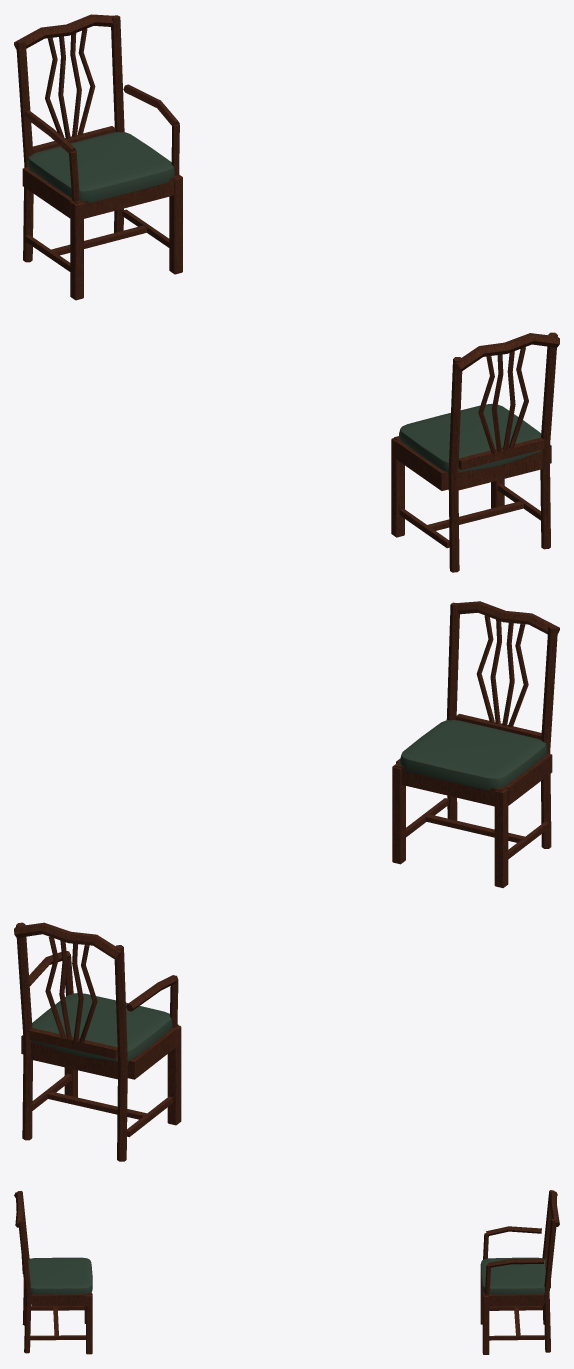
File: chairs_1924.gltf
3 views of the same model, one above another, from view 1: azimuth 30°, elevation 25°; view 2: azimuth 150°, elevation 25°; view 3: azimuth 270°, elevation 25° (orthographic). The views are drawn at different scales.
Parts seen in each view (by area): view 1: 餐厅·餐椅8（主位）-col, 餐厅·餐椅7（南端空椅）-col; view 2: 餐厅·餐椅7（南端空椅）-col, 餐厅·餐椅8（主位）-col; view 3: 餐厅·餐椅8（主位）-col, 餐厅·餐椅7（南端空椅）-col.
Boxes of the visible parts, x1=… form: 餐厅·餐椅8（主位）-col: x1=14, y1=14, x2=182, y2=300; 餐厅·餐椅7（南端空椅）-col: x1=391, y1=332, x2=559, y2=572; 餐厅·餐椅7（南端空椅）-col: x1=392, y1=601, x2=559, y2=887; 餐厅·餐椅8（主位）-col: x1=14, y1=922, x2=181, y2=1161; 餐厅·餐椅8（主位）-col: x1=480, y1=1190, x2=559, y2=1354; 餐厅·餐椅7（南端空椅）-col: x1=14, y1=1191, x2=92, y2=1354.
Bounding box in the file's own units: 0.5557 × 1.01 × 3.67.
2 materials, 1 textured.
